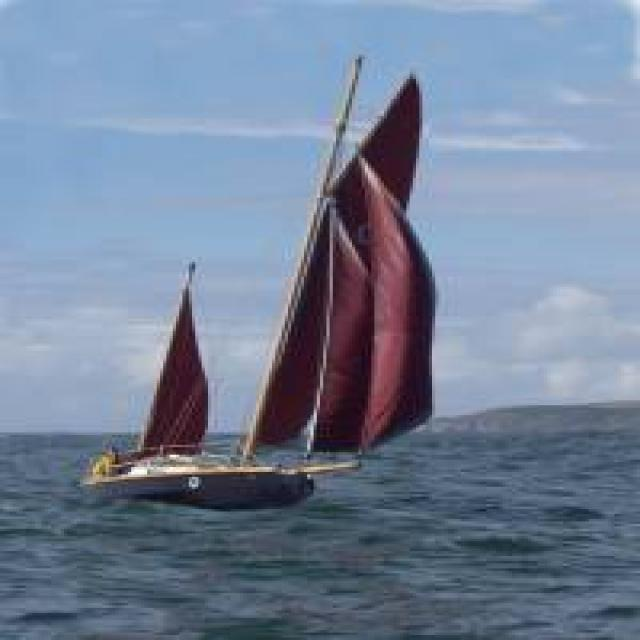Ship: (65, 54, 437, 511)
